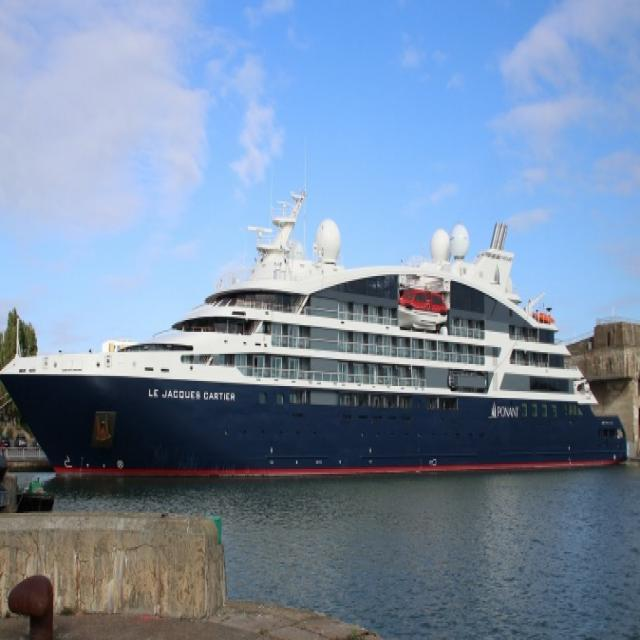cruises: (1, 184, 629, 494)
